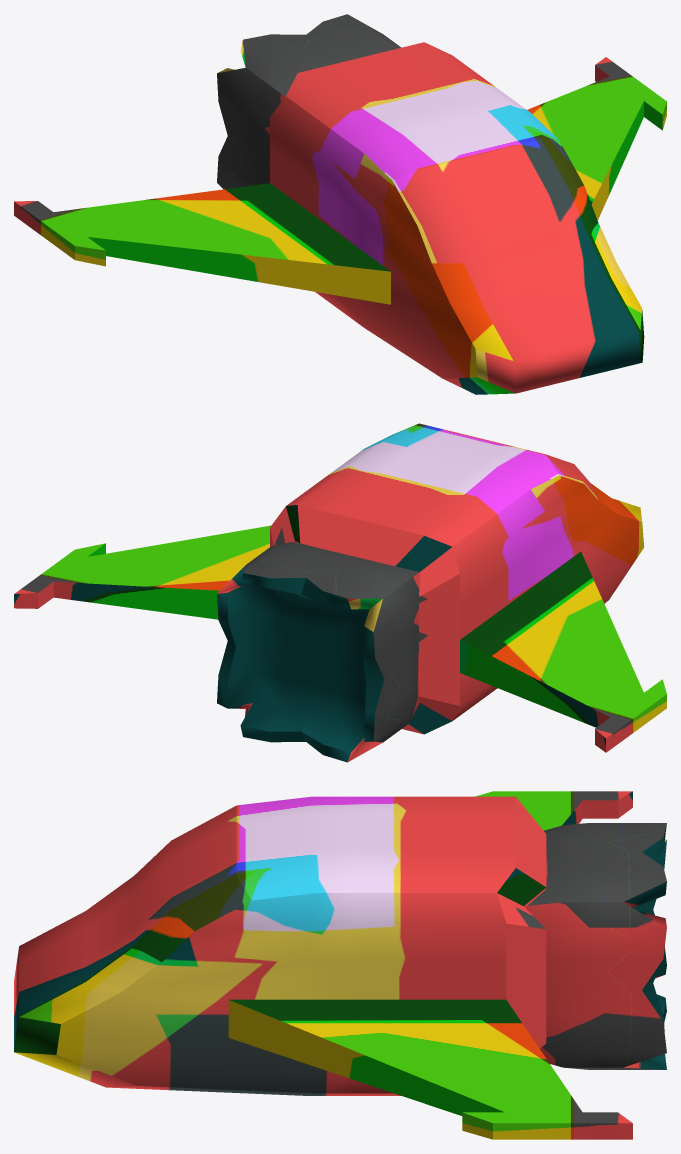
The model's file is ship.fbx.
The picture shows the model from 3 angles, top to bottom: view 1: azimuth 30°, elevation 25°; view 2: azimuth 150°, elevation 25°; view 3: azimuth 270°, elevation 25°; orthographic projection. The views are drawn at different scales.
Parts seen in each view (by area): view 1: Ship; view 2: Ship; view 3: Ship.
Boxes of the visible parts, <box> form: Ship: <box>14,14,666,394</box>; Ship: <box>14,423,666,762</box>; Ship: <box>14,791,666,1139</box>.
Bounding box in the file's own units: 1.22 × 0.3923 × 1.02.
1 material, 1 textured.
